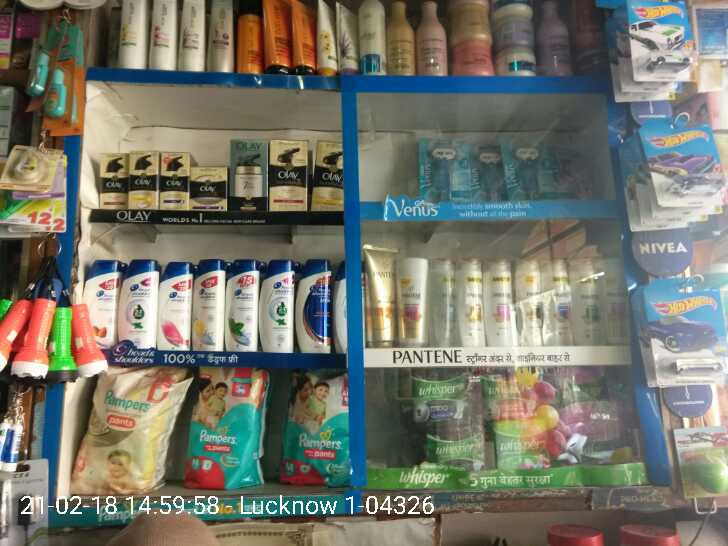venus: (421, 138, 468, 197), (506, 140, 550, 198), (468, 140, 506, 197), (550, 145, 586, 198)
